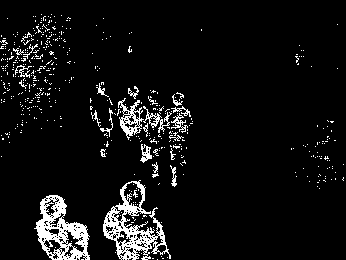person: (103, 181, 172, 260), (35, 193, 90, 260), (163, 92, 190, 186), (118, 85, 148, 162), (89, 80, 114, 157), (142, 88, 163, 177)
